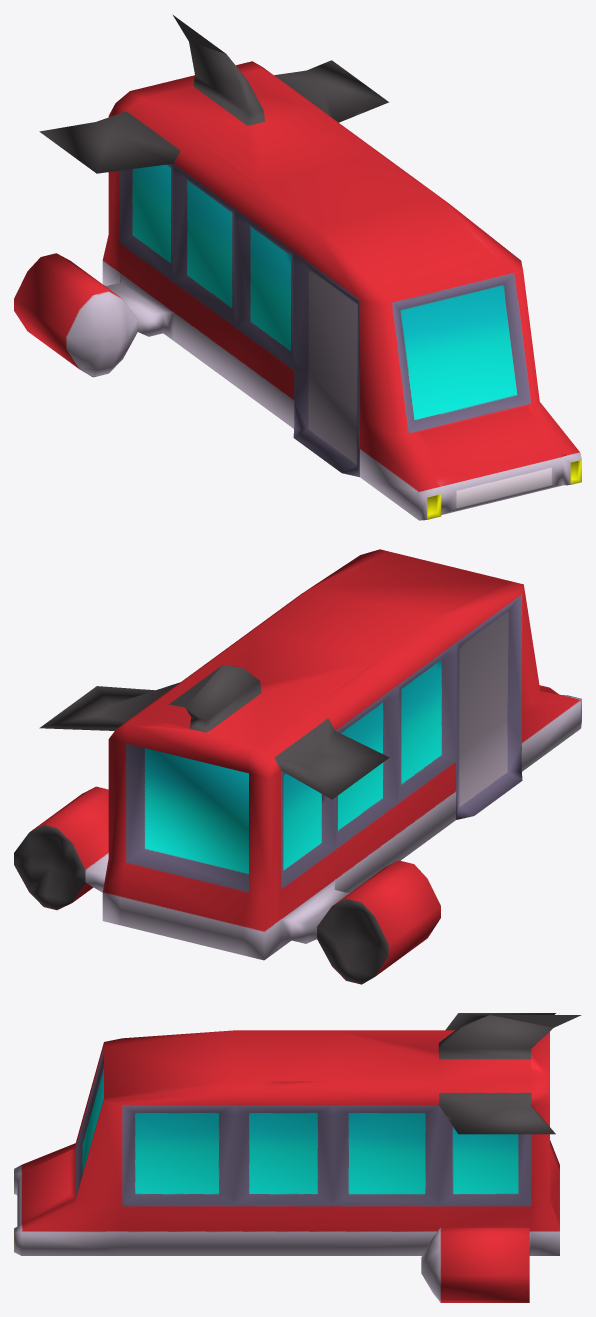
File: Buss_EXP.fbx
3 views of the same model, one above another, from view 1: azimuth 30°, elevation 25°; view 2: azimuth 150°, elevation 25°; view 3: azimuth 270°, elevation 25° (orthographic). The views are drawn at different scales.
Visible parts, largest first — view 1: Buss; view 2: Buss; view 3: Buss.
Part boxes in pixels (x1,y1,x2,y2): Buss: (14, 15, 581, 520); Buss: (14, 549, 581, 984); Buss: (14, 1013, 581, 1302).
Bounding box in the file's own units: 6.96 × 4.67 × 10.75.
Materials: 1 (1 with a texture image).
